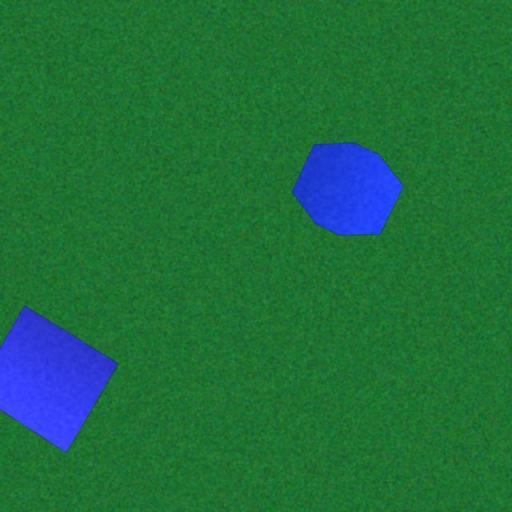BLUE_SQUARE: (0, 304, 119, 454)
